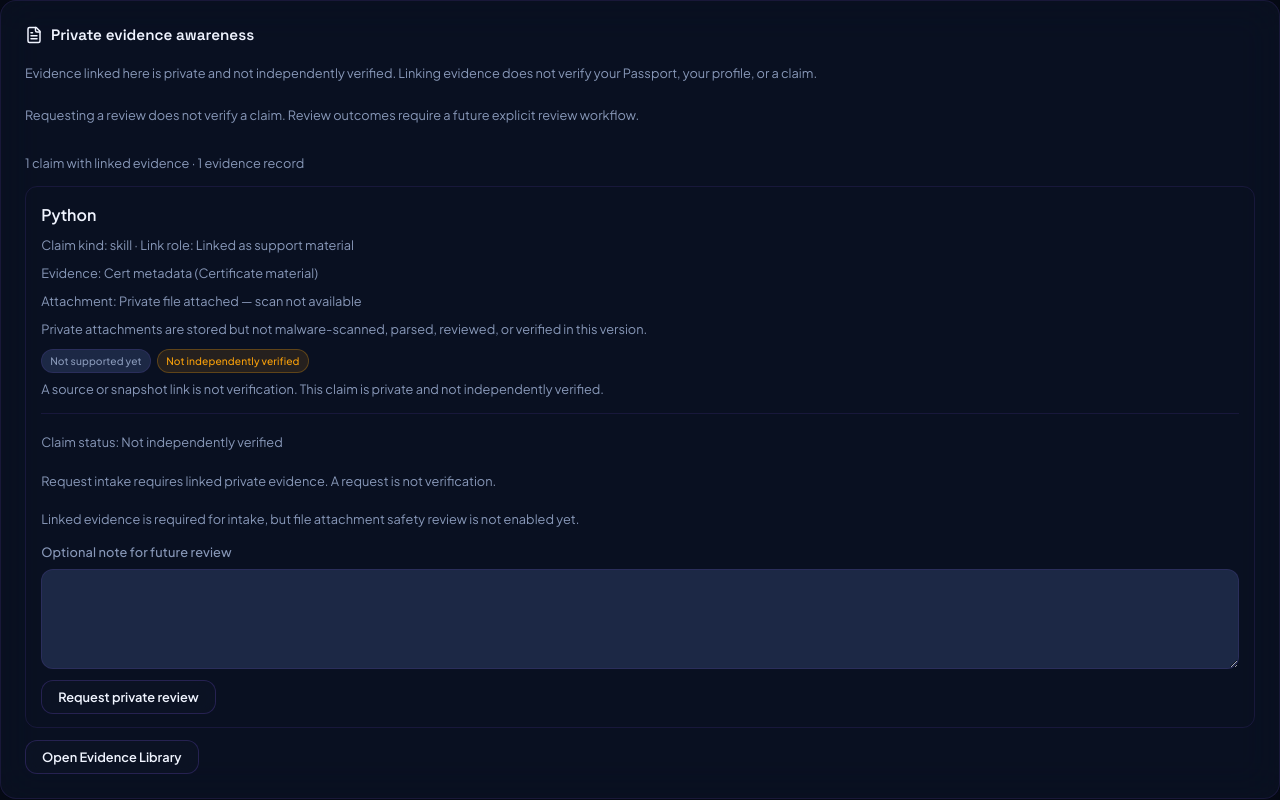
Test: PassportEvidencePanel › creates review request with claim_id and optional note
The width and height of the screenshot is (1280, 800).
Check: the button "Request private review" is shown, box [41,680,216,714]
Type "Please review privately" into the text box labelled "Optional note for future review" at (640, 619), box [41,569,1239,669]
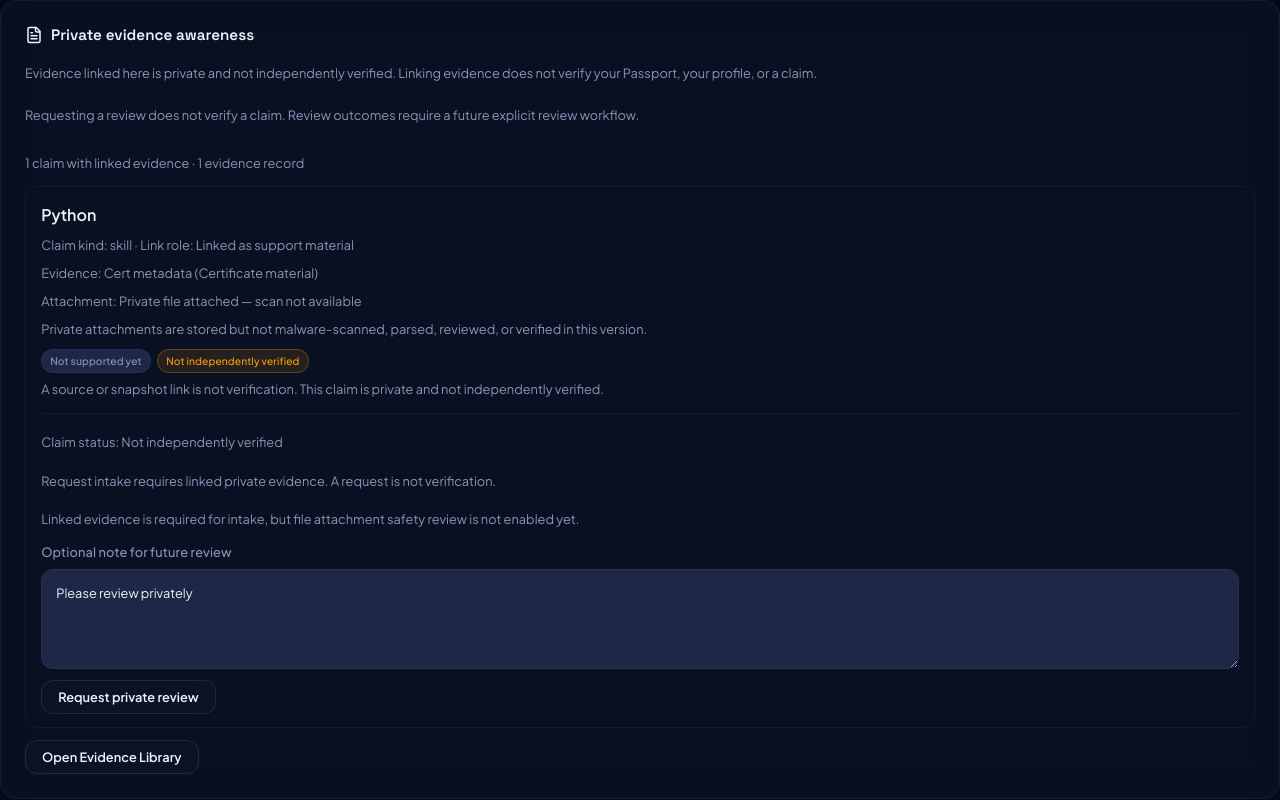
Click the button "Request private review" at (128, 697), box [41,680,216,714]
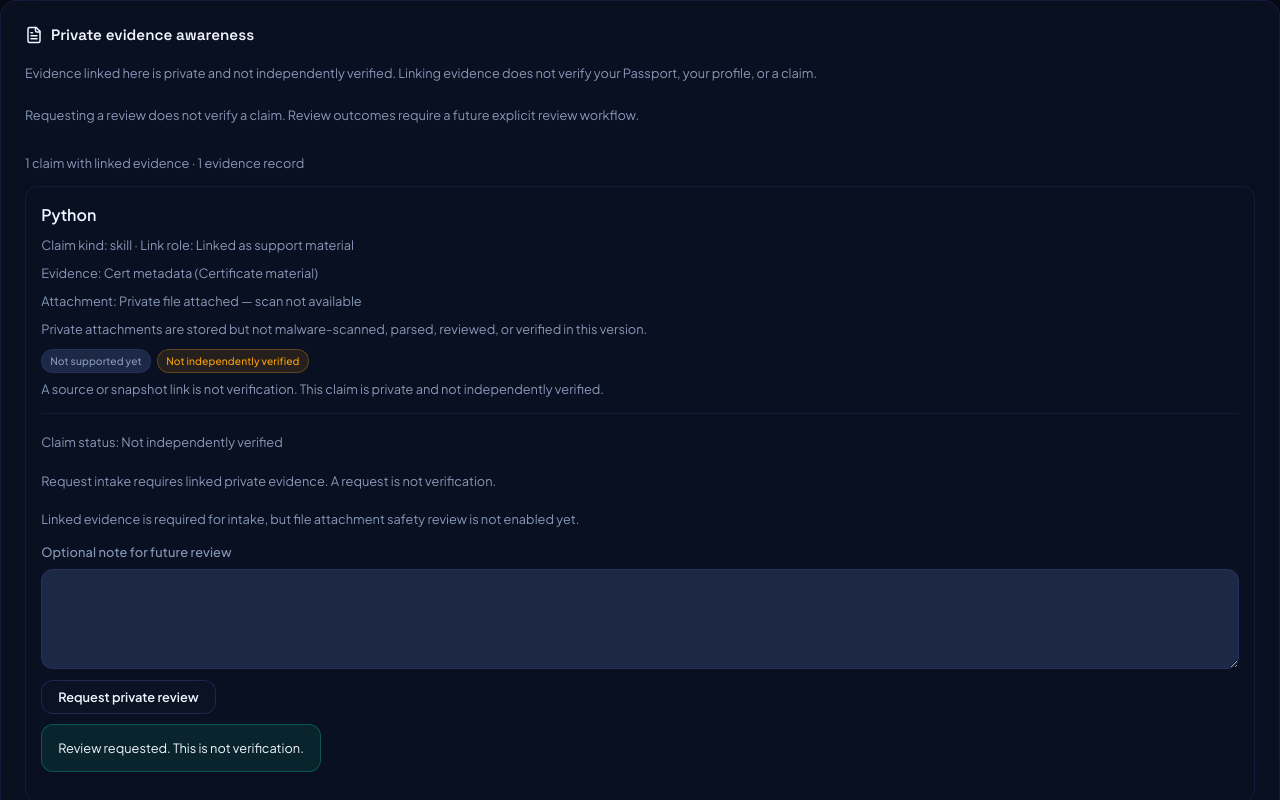
Check: the text "Review requested. This is not verification." is shown, box [41,724,321,772]
